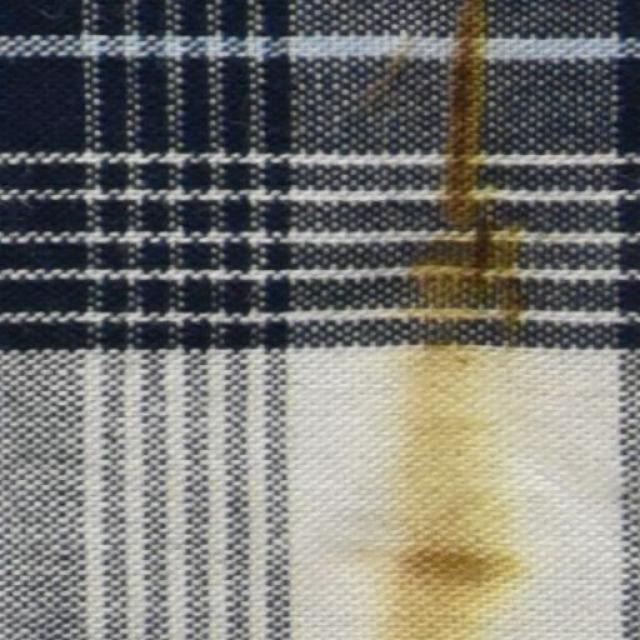Stain: (389, 186, 526, 639), (438, 7, 484, 233)
